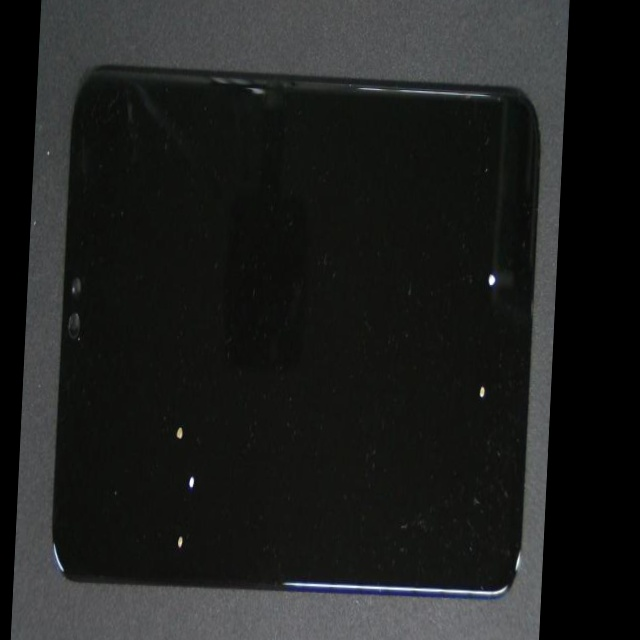stain: (261, 174, 561, 575), (232, 120, 563, 466), (94, 203, 277, 640), (78, 213, 260, 640), (80, 269, 256, 640)
